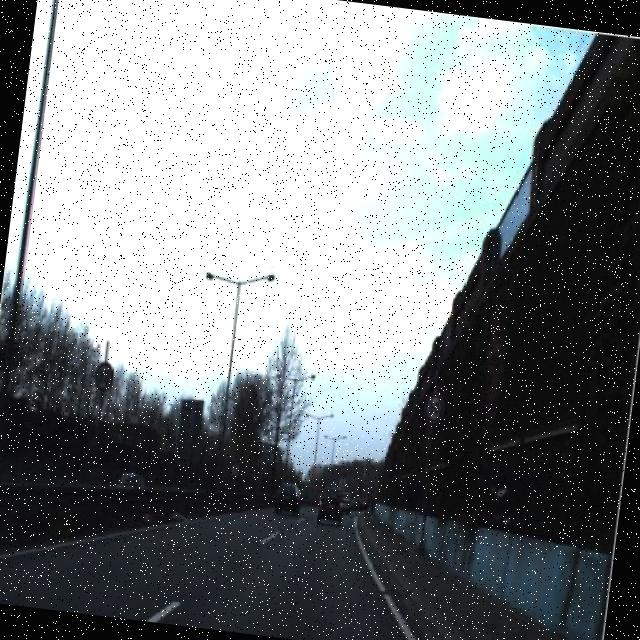Ograniczenie predkosci do 80: (90, 354, 122, 396), (420, 390, 448, 428)
